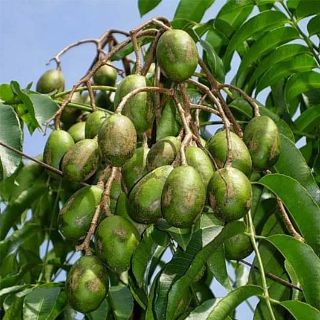coc: (162, 164, 204, 227), (66, 255, 110, 313), (208, 169, 253, 222), (156, 29, 198, 84), (98, 113, 136, 165)
